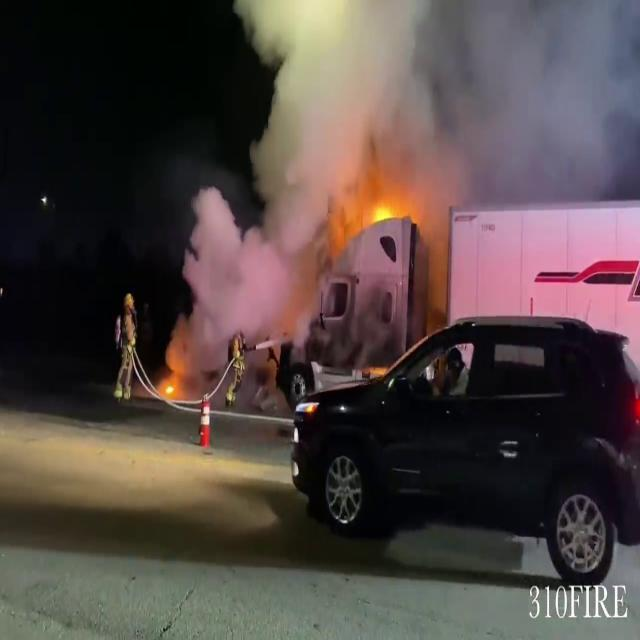Fire: (345, 184, 421, 236)
Smoke: (226, 0, 640, 262), (174, 174, 309, 392)
